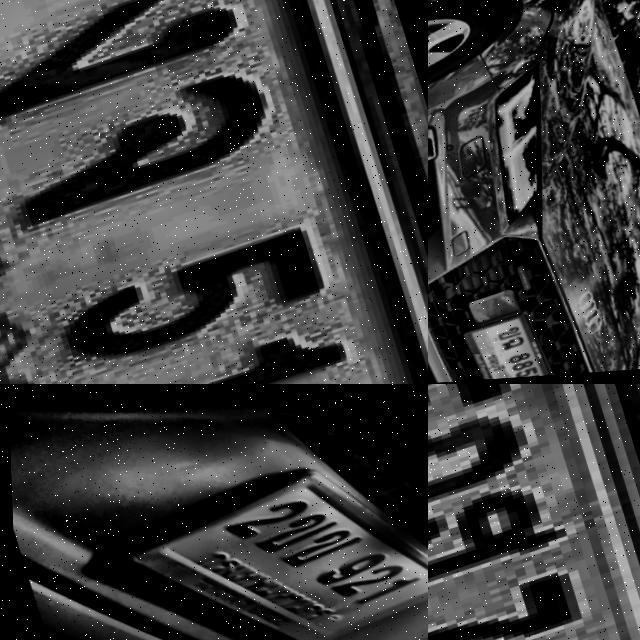license-plate: (0, 0, 428, 384), (102, 433, 428, 640), (428, 384, 640, 640), (453, 308, 551, 384)
